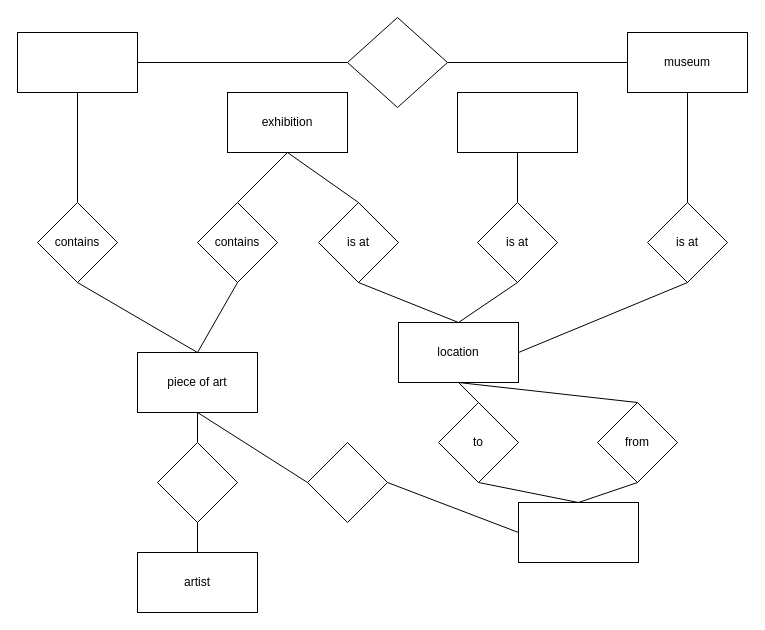
This 765x630 diagram has some shape labels left out. Here are the shapes that lost their labels. From the top down, the centre of each, then its label:
pixel 77 62: collection
pixel 397 62: is associated to
pixel 517 122: storage site
pixel 197 482: created by
pixel 347 482: of
pixel 578 532: transaction
